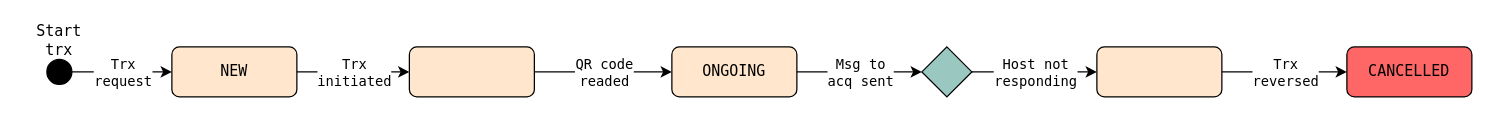
The diagram is 1494 pixels wide and 119 high, and some of its shapes have lost their labels. The shapes that lost their labels are listed below. From the top down, each one's centre as x and y in pixels, then its label:
At [471,71]: "CHECKINED".
At [1159,71]: "CANCELLING".
